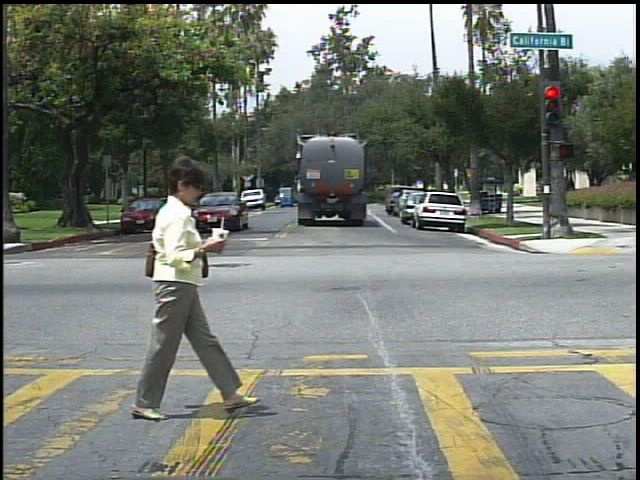person: (121, 151, 241, 423), (564, 172, 582, 205), (516, 181, 529, 200)
